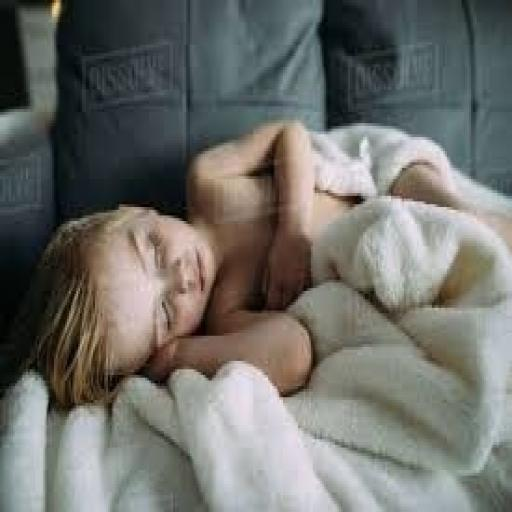sleeping: (24, 114, 510, 408)
